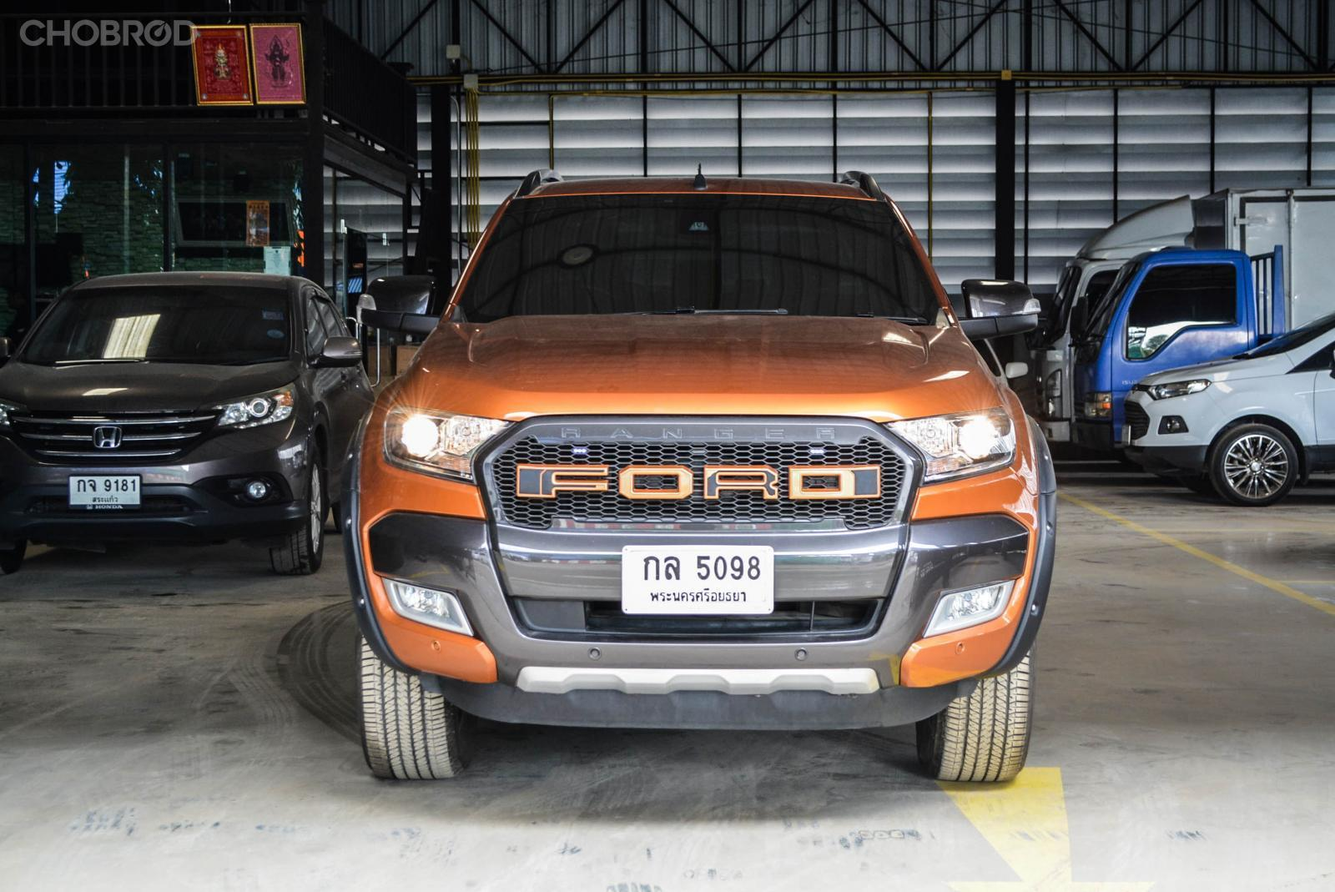license-plate: (619, 542, 775, 616)
